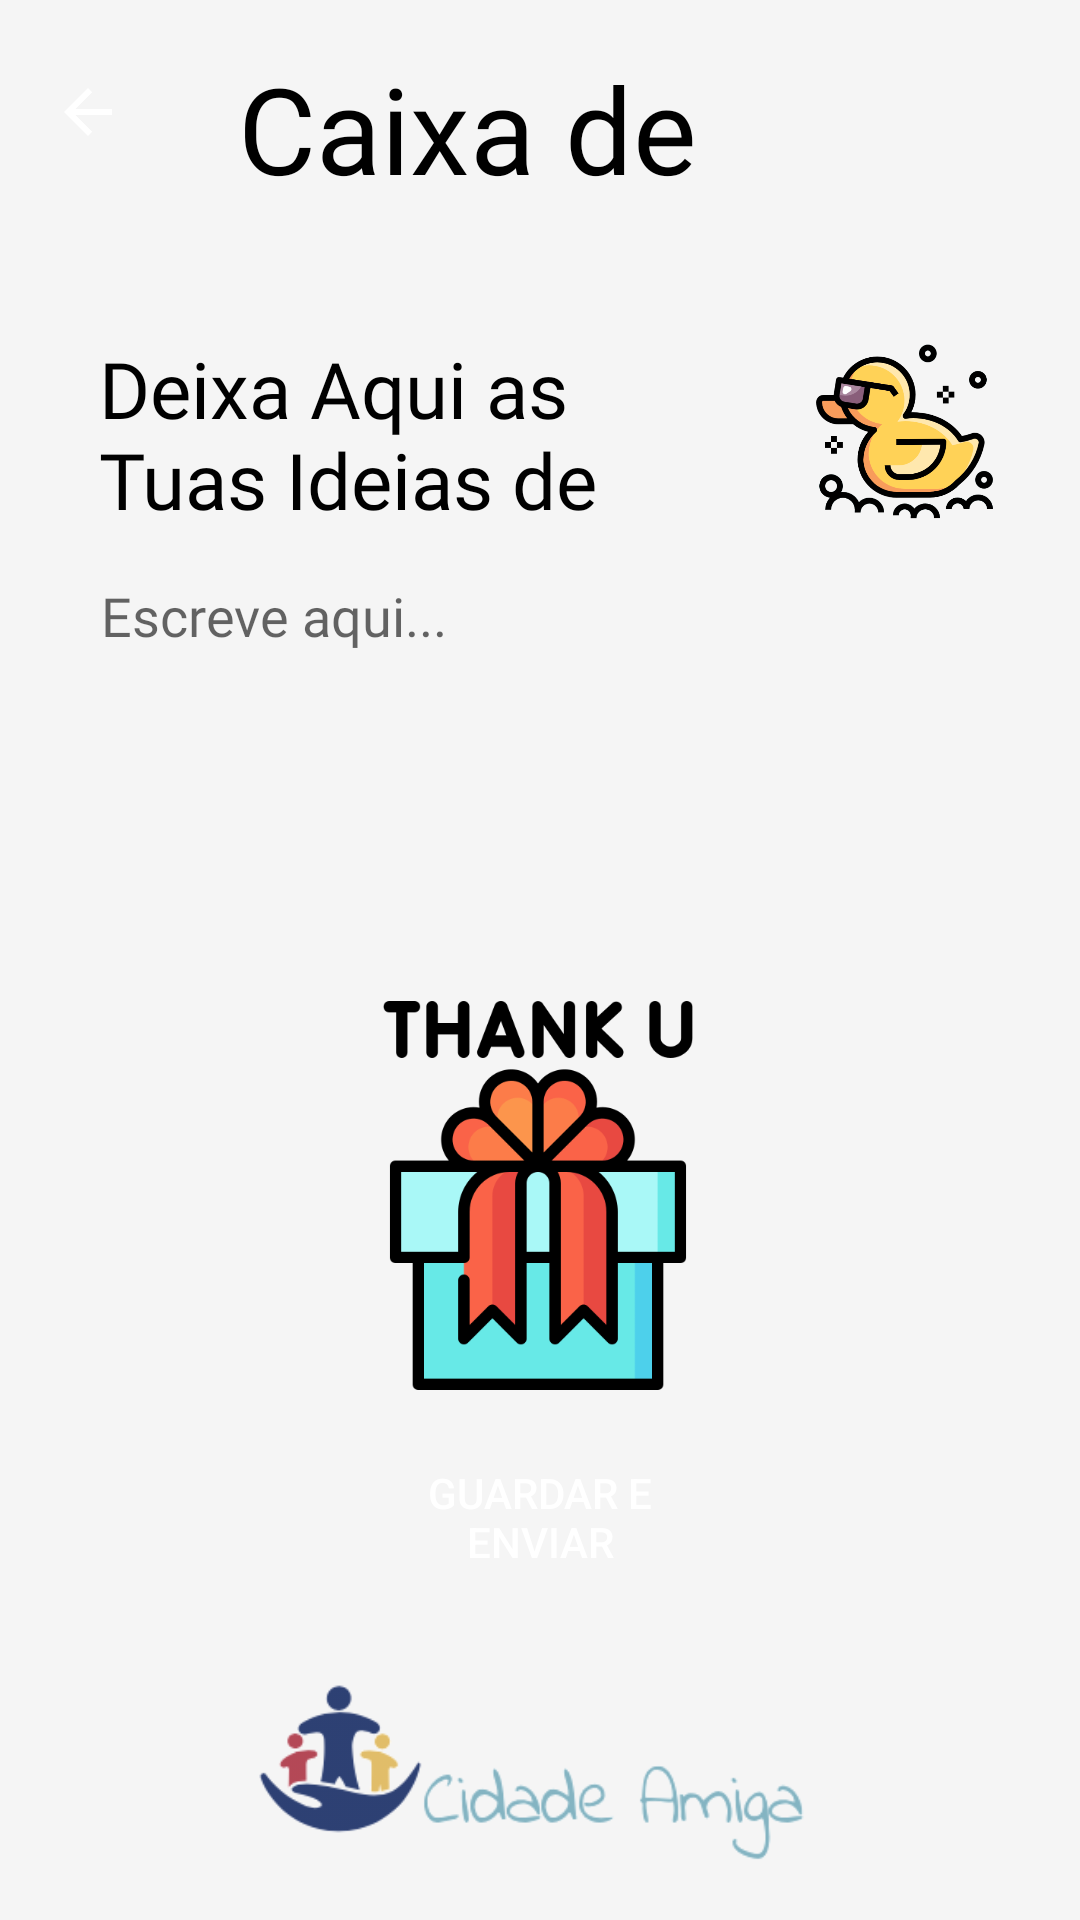

Screen size 1080 x 1920. Icon name, then its box in pixels as (x1, y1, x2, y2):
cool duck: (816, 344, 993, 519)
